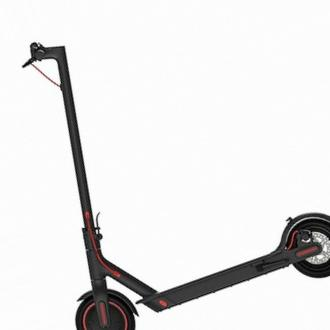scooter: (21, 42, 330, 330)
